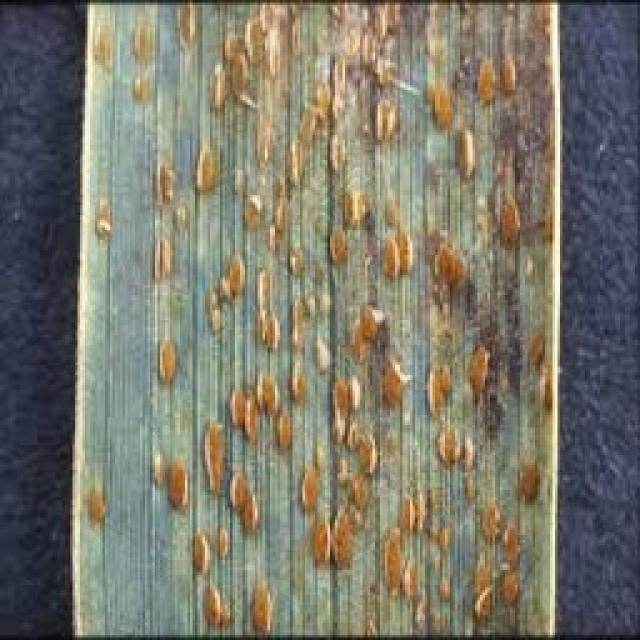Healthy Wheat: (72, 0, 558, 635)
